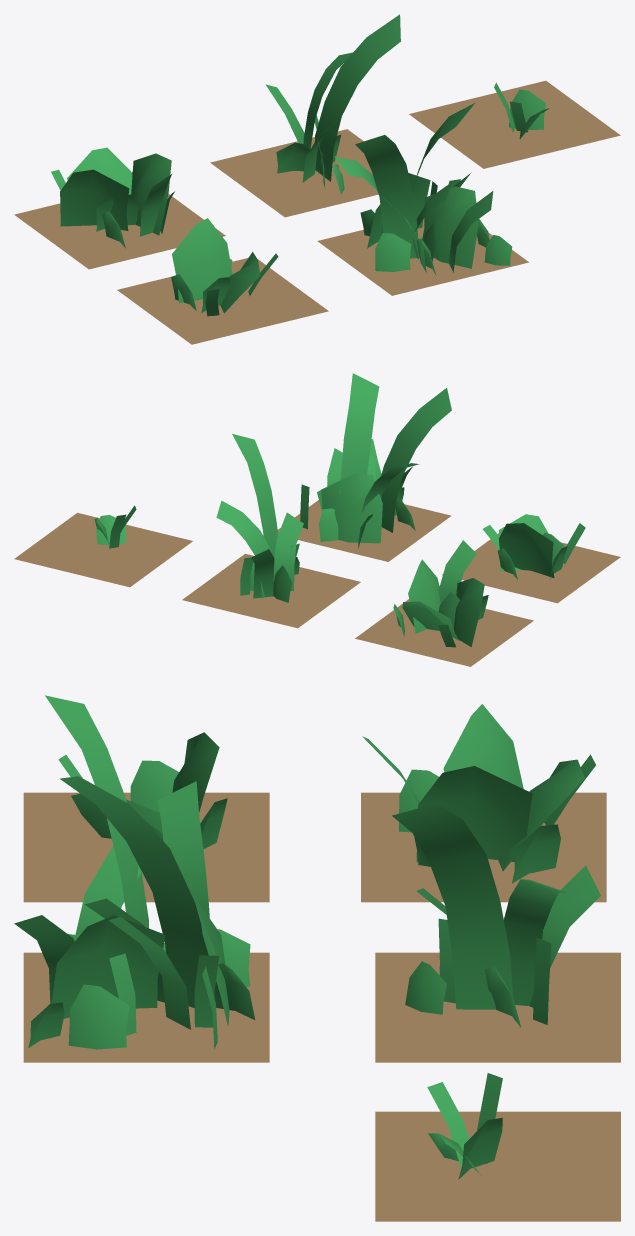
Rendered from Grass and Dirt Test 2.fbx.
3 views of the same model, one above another, from view 1: azimuth 30°, elevation 25°; view 2: azimuth 150°, elevation 25°; view 3: azimuth 270°, elevation 25° (orthographic). The views are drawn at different scales.
Parts seen in each view (by area): view 1: polySurface103, pPlane46, polySurface66, pPlane43, polySurface128, pPlane45, pPlane42, polySurface95, pPlane44, polySurface130; view 2: polySurface103, pPlane46, polySurface128, polySurface66, pPlane45, pPlane42, pPlane43, polySurface95, pPlane44, polySurface132; view 3: polySurface103, pPlane46, polySurface128, pPlane45, polySurface66, pPlane43, pPlane44, pPlane42, polySurface95, polySurface130, polySurface129, polySurface131.
Boxes of the visible parts, left/top/right/bottom form: polySurface103: left=334, top=103, right=512, bottom=275; pPlane46: left=409, top=80, right=620, bottom=168; polySurface66: left=51, top=147, right=174, bottom=248; pPlane43: left=117, top=258, right=328, bottom=344; polySurface128: left=265, top=14, right=400, bottom=194; pPlane45: left=210, top=129, right=378, bottom=217; pPlane42: left=14, top=194, right=225, bottom=269; polySurface95: left=171, top=218, right=278, bottom=316; pPlane44: left=317, top=218, right=528, bottom=295; polySurface130: left=509, top=89, right=546, bottom=130; polySurface103: left=300, top=373, right=451, bottom=548; pPlane46: left=14, top=513, right=192, bottom=587; polySurface128: left=216, top=434, right=303, bottom=602; polySurface66: left=393, top=540, right=488, bottom=647; pPlane45: left=182, top=553, right=360, bottom=628; pPlane42: left=355, top=599, right=533, bottom=666; pPlane43: left=442, top=533, right=620, bottom=603; polySurface95: left=483, top=514, right=585, bottom=579; pPlane44: left=277, top=500, right=451, bottom=561; polySurface132: left=96, top=515, right=126, bottom=544; polySurface103: left=14, top=695, right=255, bottom=1049; pPlane46: left=375, top=1111, right=620, bottom=1221; polySurface128: left=392, top=803, right=600, bottom=1027; pPlane45: left=375, top=952, right=620, bottom=1062; polySurface66: left=362, top=704, right=595, bottom=883; pPlane43: left=23, top=792, right=269, bottom=902; pPlane44: left=23, top=952, right=269, bottom=1062; pPlane42: left=361, top=792, right=606, bottom=902; polySurface95: left=58, top=732, right=227, bottom=849; polySurface130: left=458, top=1117, right=502, bottom=1179; polySurface129: left=427, top=1082, right=468, bottom=1168; polySurface131: left=477, top=1073, right=502, bottom=1163.
Bounding box in the file's own units: 3.68 × 1.14 × 2.2.
